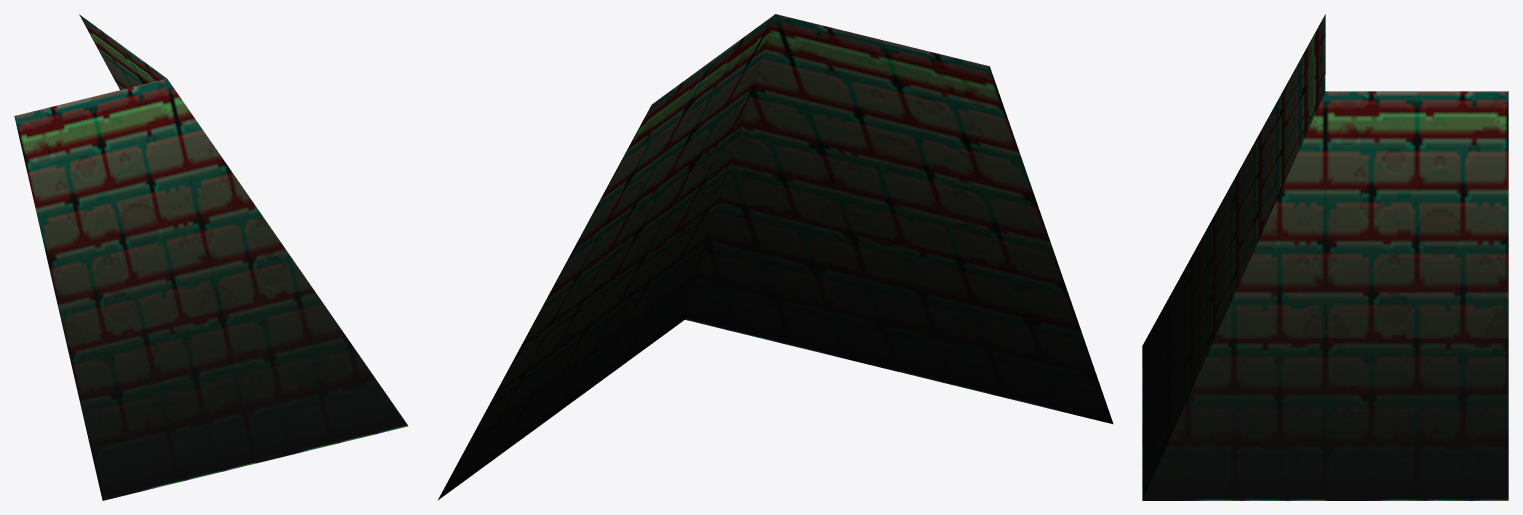
The model's file is arch_cathedral_wallMiniBottom_cornerOut.FBX.
3 renders of one model, left to right at view 1: azimuth 30°, elevation 25°; view 2: azimuth 150°, elevation 25°; view 3: azimuth 270°, elevation 25°, orthographic. The views are drawn at different scales.
Parts seen in each view (by area): view 1: arch_cathedral_wallMiniBottom_cornerOut; view 2: arch_cathedral_wallMiniBottom_cornerOut; view 3: arch_cathedral_wallMiniBottom_cornerOut.
Part boxes in pixels (x1,y1,x2,y2): arch_cathedral_wallMiniBottom_cornerOut: (14,14,408,500); arch_cathedral_wallMiniBottom_cornerOut: (437,14,1113,500); arch_cathedral_wallMiniBottom_cornerOut: (1142,14,1508,500).
Bounding box in the file's own units: 4 × 4 × 4.
1 material, 1 textured.
